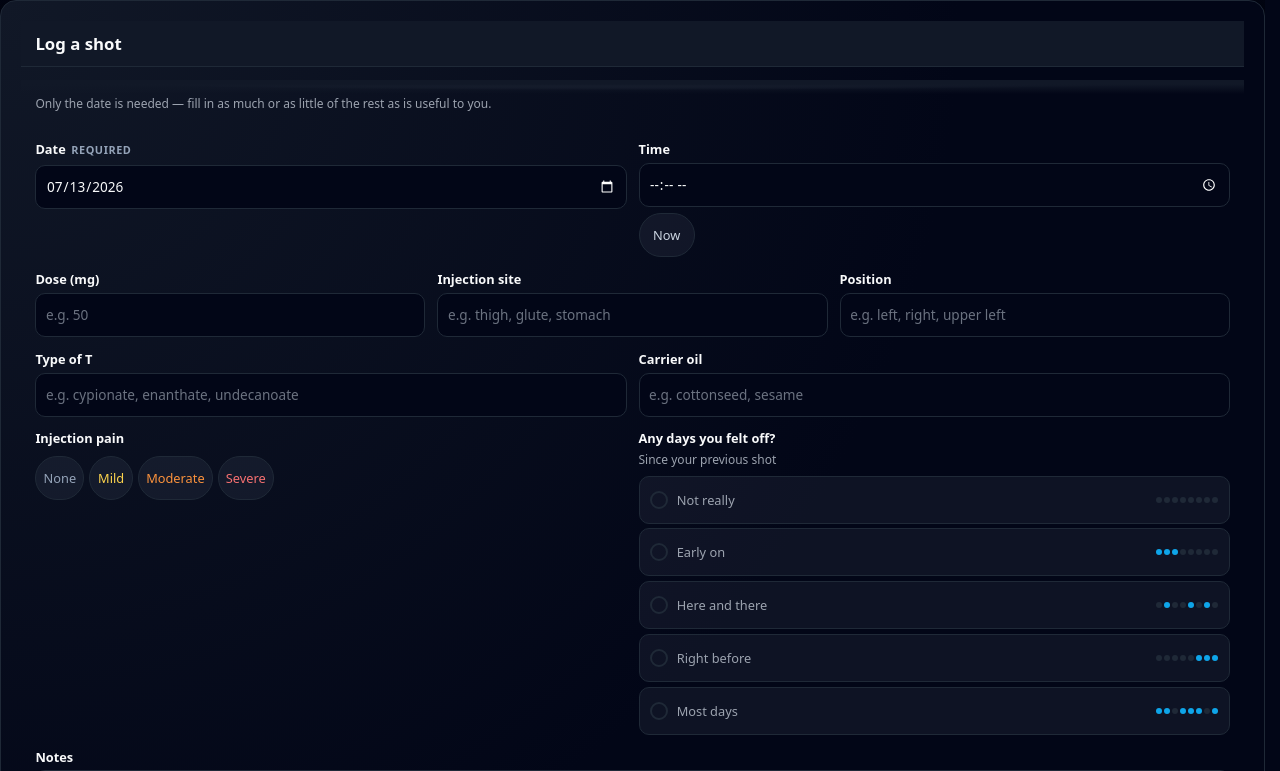
Scenario: ShotForm suggestion chips › fills the time field with the current time when Now is tapped
Expected: the time field labelled "Time" is empty, top-left (638, 163), bottom-right (1230, 207)
What coordinates should you click on to do the following:
click the button "Now"
I would click on:
 (667, 235)
Its box is top-left (638, 213), bottom-right (695, 257).
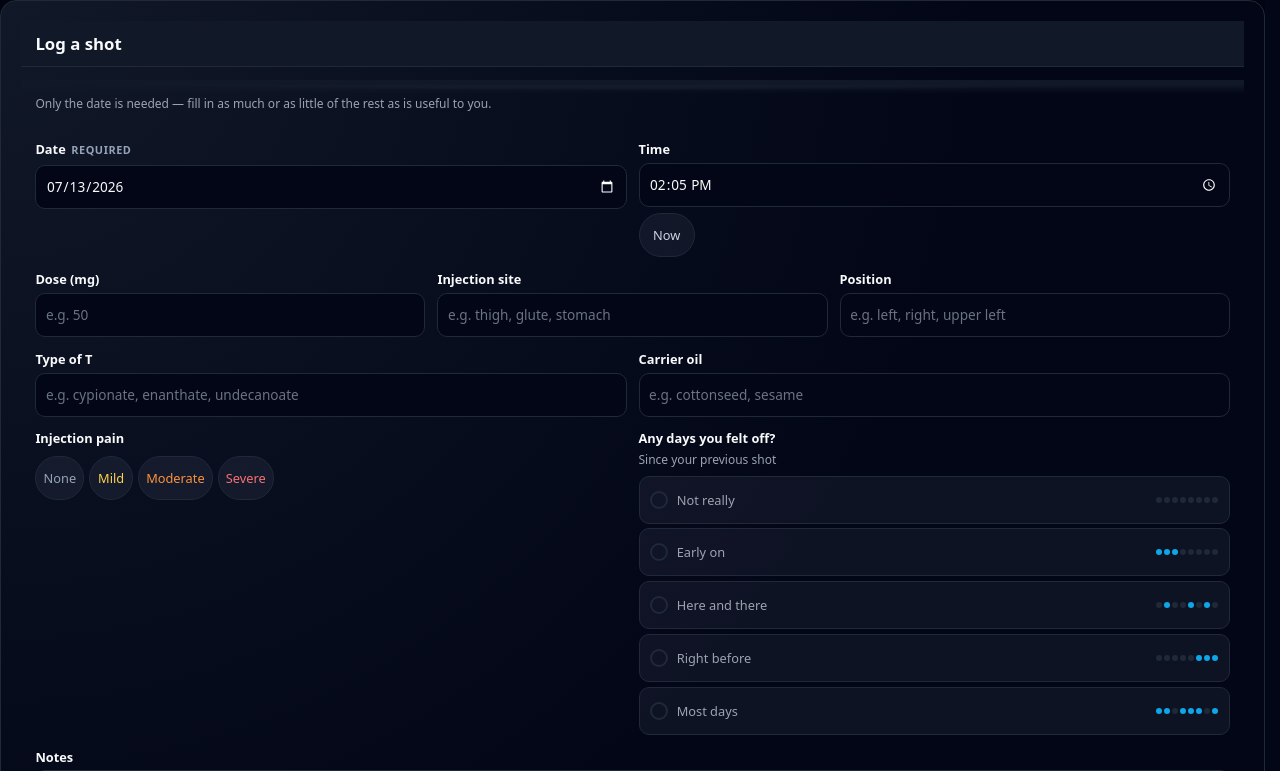
Now the time field labelled "Time" holds "14:05", box top-left (638, 163), bottom-right (1230, 207)
